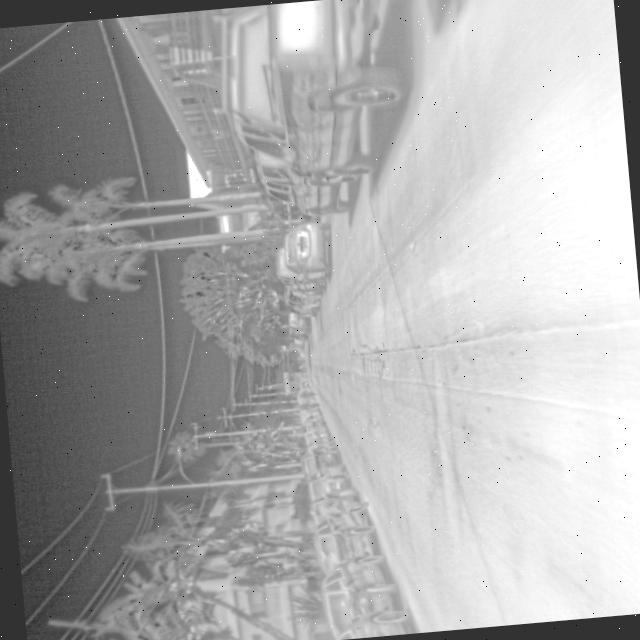Pedestrian: (306, 493, 372, 519)
Vehicle: (209, 0, 419, 194), (315, 550, 402, 639), (307, 497, 379, 578), (278, 218, 336, 284)
